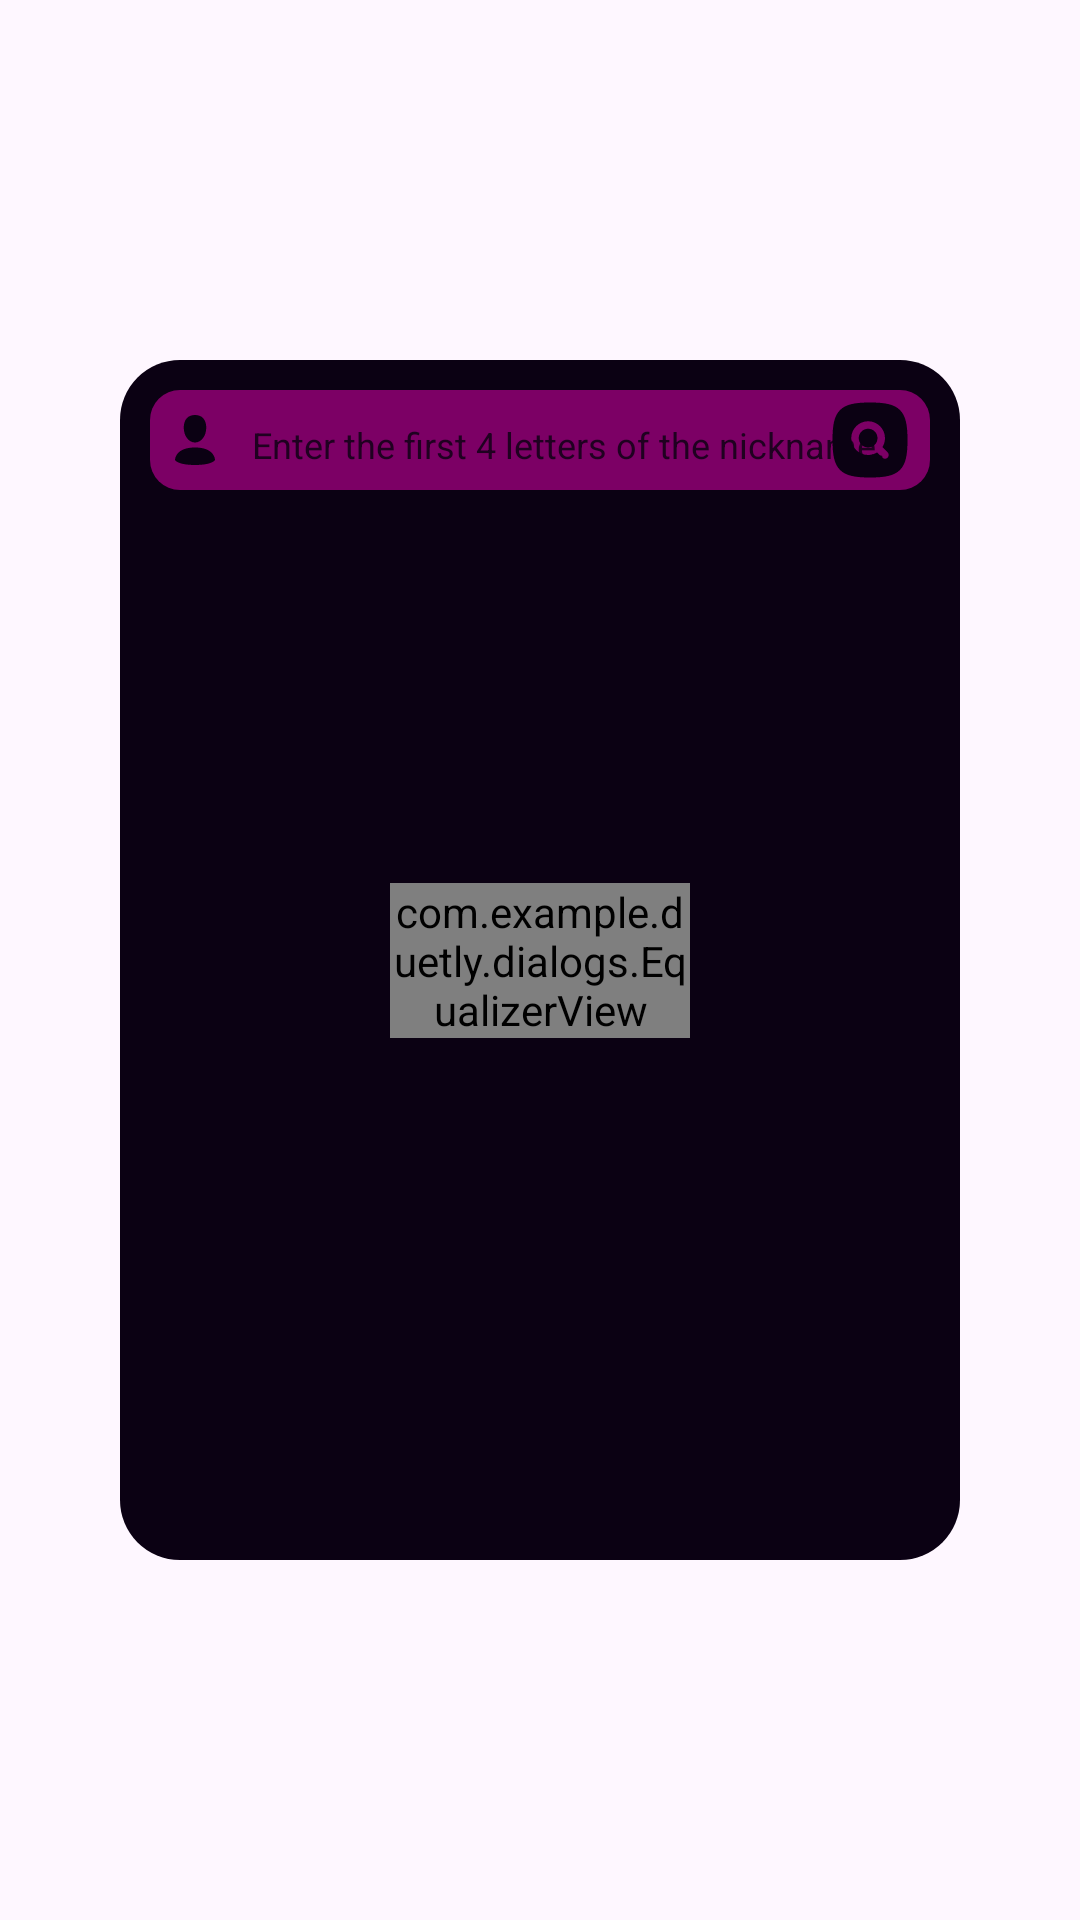

Locate icon controls on the screen. Image size 1080 × 1920, boxes as (x1, y1, x2, y2).
search square: (827, 402, 908, 478)
